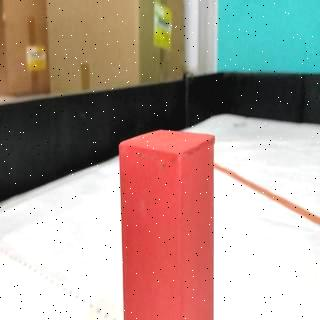redbox: (118, 127, 214, 320)
